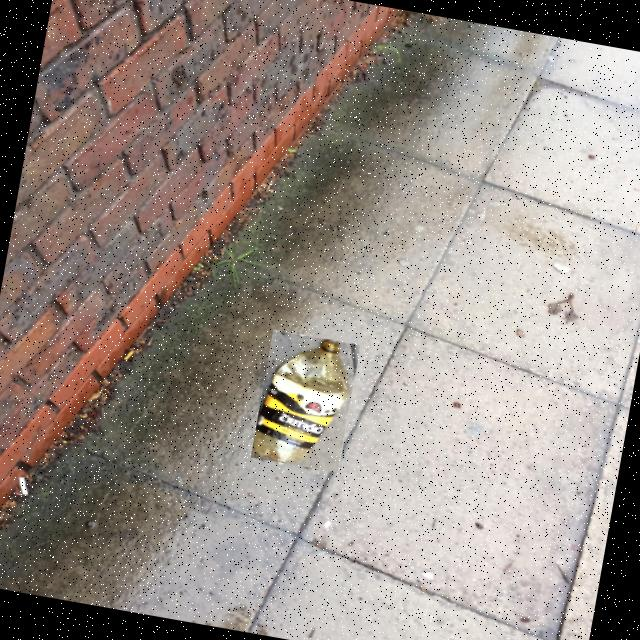Cigarette: (19, 477, 28, 495), (123, 351, 134, 361)
Clear plastic bottle: (254, 340, 351, 463)
